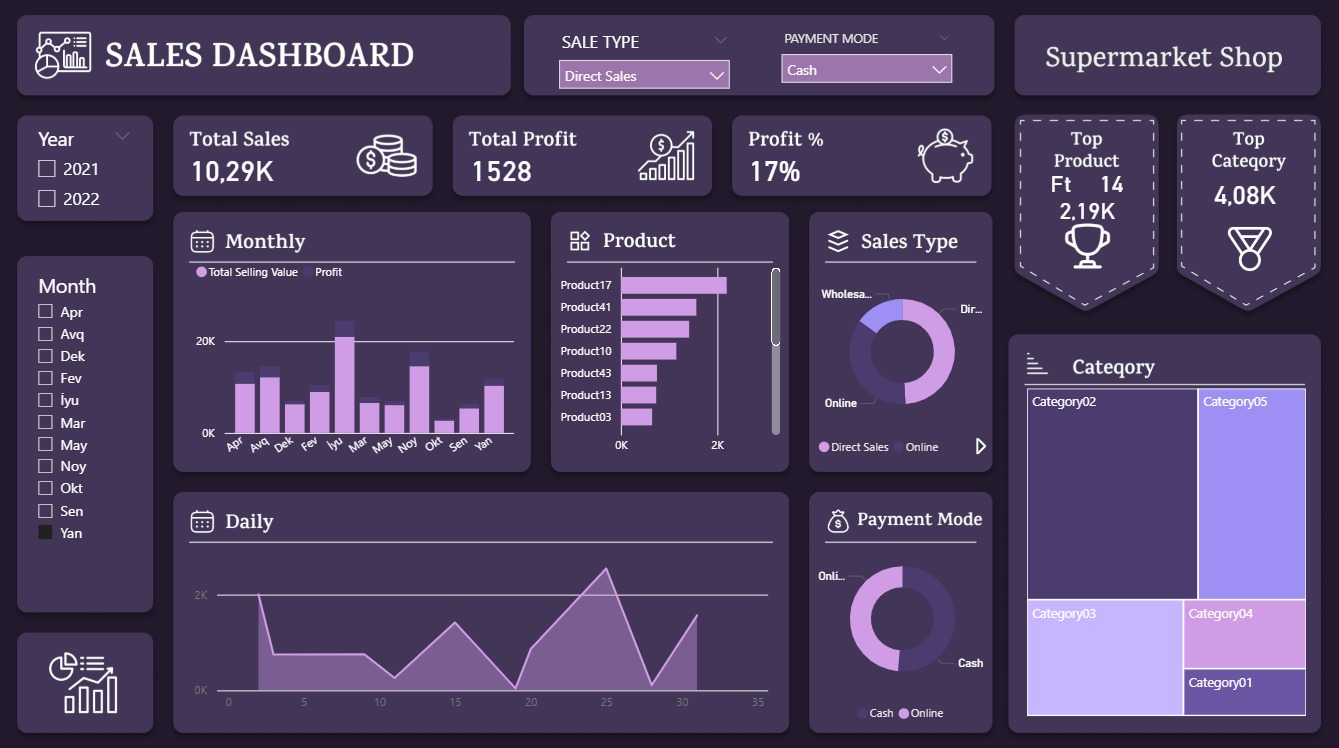

The dashboard page shown, as its layout file describes it:
{"tool":"powerbi","page":{"name":"Yeni","canvas":[1280,720],"ordinal":2},"visuals":[{"type":"slicer","fields":{"Values":["InputData.SALE TYPE"]},"box":[524.7,27,183.1,61.9],"z":0},{"type":"slicer","fields":{"Values":["InputData.PAYMENT MODE"]},"box":[737.4,27,183.1,61.9],"z":1000},{"type":"slicer","fields":{"Values":["InputData.Year"]},"box":[26.2,117.9,113.1,96.4],"z":2000},{"type":"slicer","fields":{"Values":["InputData.Month Name"]},"box":[26.2,258.3,111.9,314.3],"z":3000},{"type":"columnChart","fields":{"Category":["InputData.Month Name"],"Y":["Sum(InputData.Total Selling Value)","InputData.Profit"]},"box":[184.4,243.7,313.3,203.7],"z":4000},{"type":"donutChart","fields":{"Y":["Sum(InputData.Total Selling Value)"],"Category":["InputData.SALE TYPE"]},"box":[777.5,257.5,170,190],"z":5000},{"type":"areaChart","fields":{"Y":["Sum(InputData.Total Selling Value)"],"Category":["InputData.Day"]},"box":[183.8,511.2,556.2,178.8],"z":6000},{"type":"donutChart","fields":{"Y":["Sum(InputData.Total Selling Value)"],"Category":["InputData.PAYMENT MODE"]},"box":[777.4,511.8,170.2,189.5],"z":7000},{"type":"clusteredBarChart","fields":{"Y":["Sum(InputData.Total Selling Value)"],"Category":["InputData.MasterData.PRODUCT"]},"box":[527.5,246.2,223.8,198.8],"z":8000},{"type":"treemap","fields":{"Group":["InputData.MasterData.CATEGORY"],"Values":["Sum(InputData.Total Selling Value)"]},"box":[975.7,368.6,275.7,321.4],"z":9000},{"type":"card","fields":{"Values":["Sum(InputData.QUANTITY)"]},"box":[1032.7,163.6,59.1,31.8],"z":10000},{"type":"card","fields":{"Values":["Min(InputData.MasterData.UOM)"]},"box":[990,163.6,46.4,31.8],"z":11000},{"type":"card","fields":{"Values":["Sum(InputData.Total Selling Value)"]},"box":[986.2,190,105.6,28.1],"z":12000},{"type":"card","fields":{"Values":["Sum(InputData.Total Selling Value)"]},"box":[1136.9,149.4,103.8,81.2],"z":13000},{"type":"card","fields":{"Values":["Sum(InputData.Total Selling Value)"]},"box":[171.4,141.4,104.3,48.6],"z":14000},{"type":"card","fields":{"Values":["InputData.Profit"]},"box":[441.4,140,77.1,50],"z":15000},{"type":"card","fields":{"Values":["InputData.Profit %"]},"box":[707.1,141.4,67.1,48.6],"z":16000}]}

Visuals, with their boxes in screenshot pixels (x1, y1, x2, y2), scaled from the page's 1280x720 canvas onto the 1339x748 screenshot:
slicer - InputData.SALE TYPE: (549,28,740,92)
slicer - InputData.PAYMENT MODE: (771,28,963,92)
slicer - InputData.Year: (27,122,146,223)
slicer - InputData.Month Name: (27,268,144,595)
columnChart - InputData.Month Name x Sum(InputData.Total Selling Value): (193,253,521,465)
donutChart - Sum(InputData.Total Selling Value) x InputData.SALE TYPE: (813,268,991,465)
areaChart - Sum(InputData.Total Selling Value) x InputData.Day: (192,531,774,717)
donutChart - Sum(InputData.Total Selling Value) x InputData.PAYMENT MODE: (813,532,991,729)
clusteredBarChart - Sum(InputData.Total Selling Value) x InputData.MasterData.PRODUCT: (552,256,786,462)
treemap - InputData.MasterData.CATEGORY x Sum(InputData.Total Selling Value): (1021,383,1309,717)
card - Sum(InputData.QUANTITY): (1080,170,1142,203)
card - Min(InputData.MasterData.UOM): (1036,170,1084,203)
card - Sum(InputData.Total Selling Value): (1032,197,1142,227)
card - Sum(InputData.Total Selling Value): (1189,155,1298,240)
card - Sum(InputData.Total Selling Value): (179,147,288,197)
card - InputData.Profit: (462,145,542,197)
card - InputData.Profit %: (740,147,810,197)
